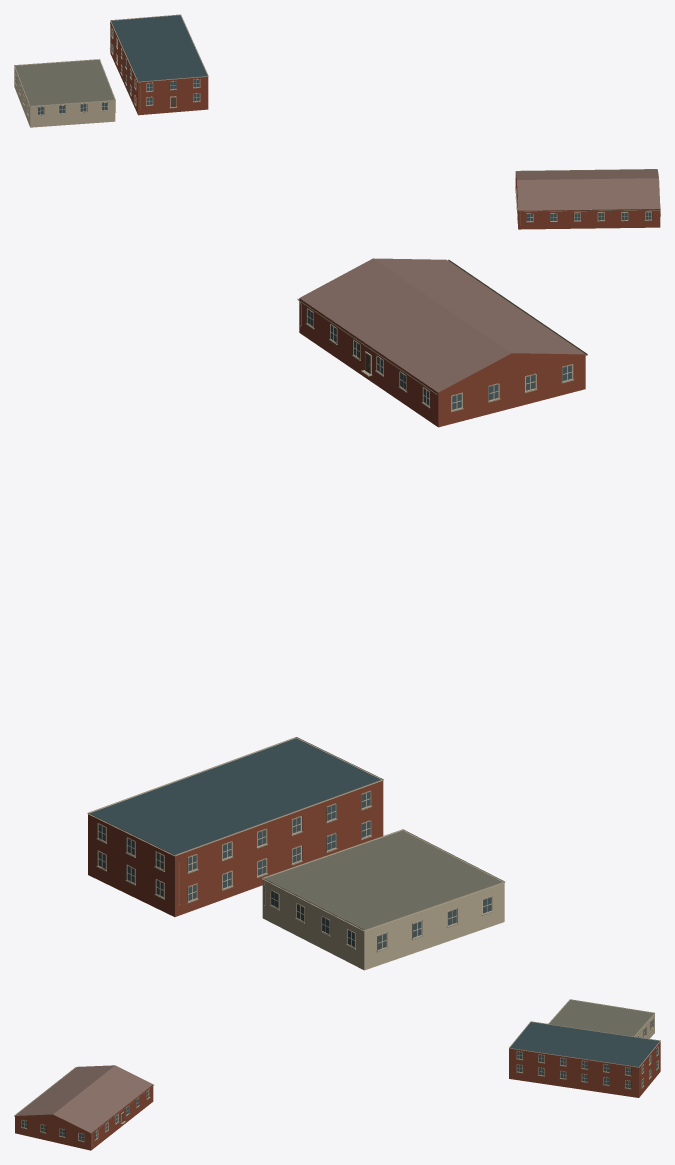
3 views of the same model, one above another, from view 1: azimuth 30°, elevation 25°; view 2: azimuth 150°, elevation 25°; view 3: azimuth 270°, elevation 25° (orthographic). The views are drawn at different scales.
Visible parts, largest first — view 1: -3_-6_609781267_0, -3_-6_609781273_2; view 2: -3_-6_609781267_0, -3_-6_609781273_2; view 3: -3_-6_609781267_0.
Part boxes in pixels (left/top/right/bottom): -3_-6_609781267_0: left=14, top=14, right=660, bottom=229; -3_-6_609781273_2: left=14, top=67, right=115, bottom=127; -3_-6_609781267_0: left=87, top=258, right=587, bottom=952; -3_-6_609781273_2: left=262, top=879, right=504, bottom=970; -3_-6_609781267_0: left=14, top=999, right=660, bottom=1150.
Size of the model in its own units: 86.05 by 15.18 by 141.
